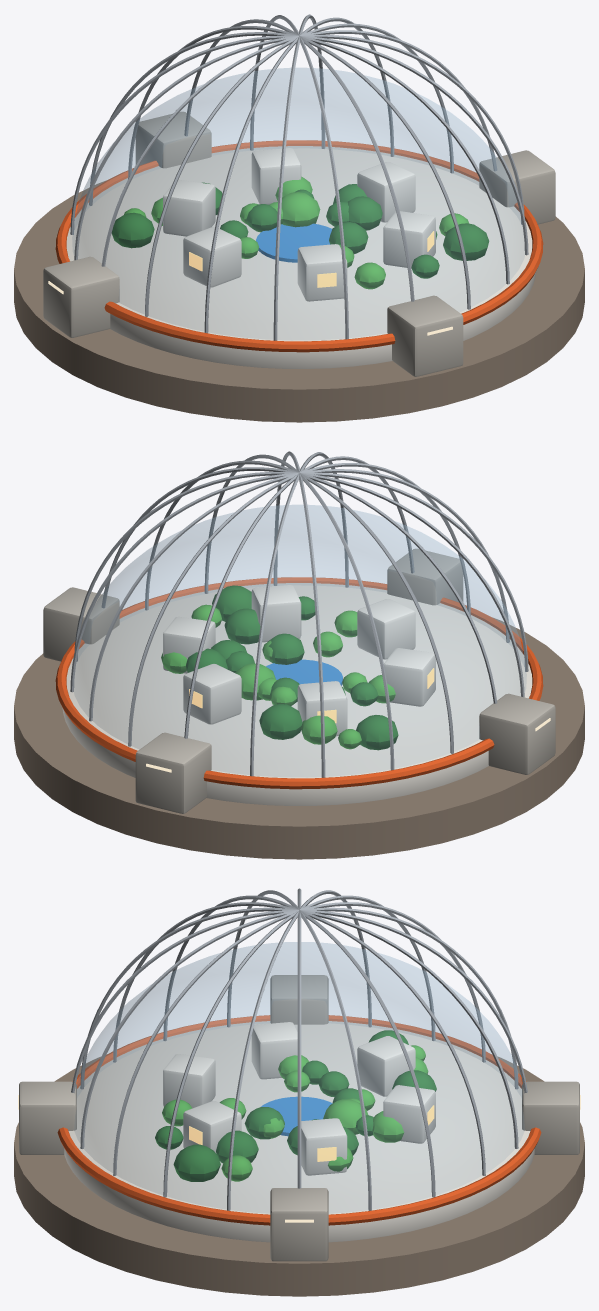
File: big_dome.glb
3 renders of one model, top to bottom at view 1: azimuth 30°, elevation 25°; view 2: azimuth 150°, elevation 25°; view 3: azimuth 270°, elevation 25°, orthographic.
Visible parts, largest first — view 1: big_dome; view 2: big_dome; view 3: big_dome.
Part boxes in pixels (x1,y1,x2,y2): big_dome: [14, 14, 584, 422]; big_dome: [14, 451, 584, 859]; big_dome: [14, 888, 584, 1296].
Size of the model in its own units: 11.8 by 6.07 by 11.8.
